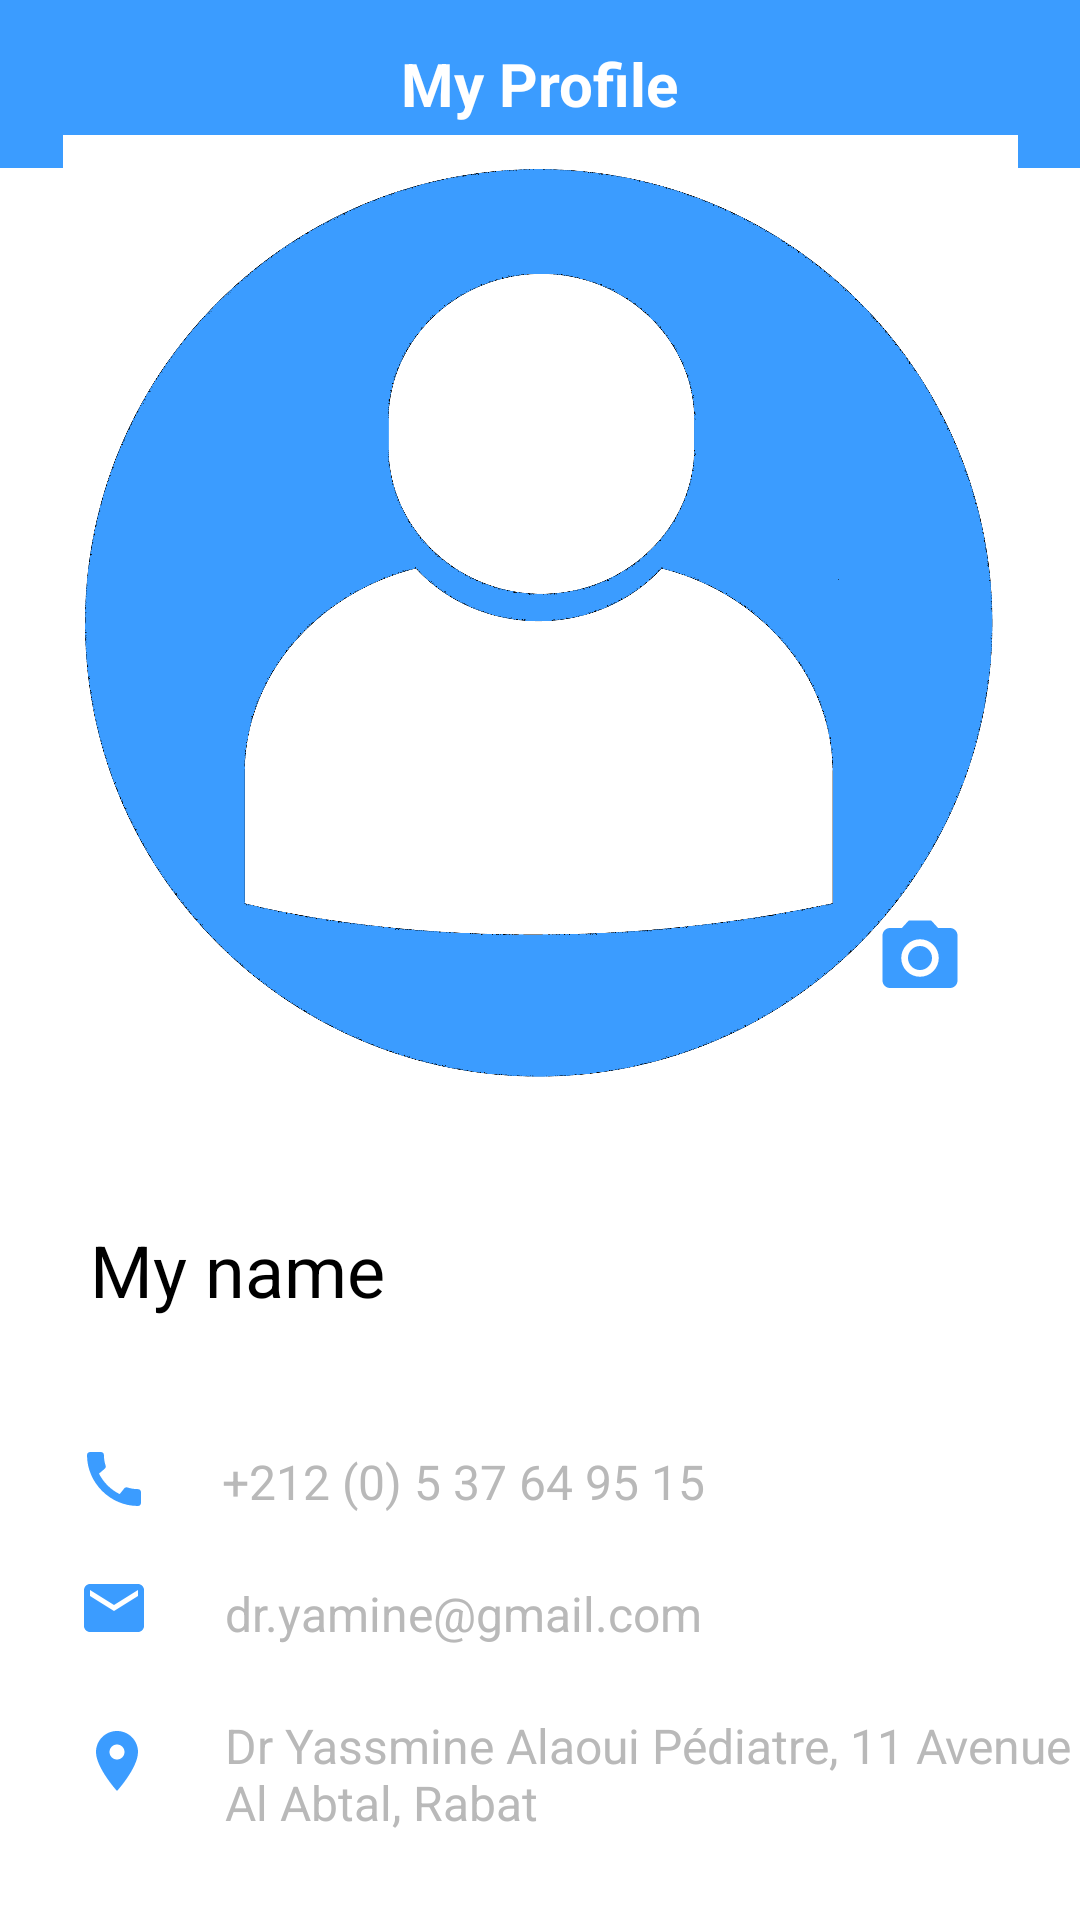

Named icons in this screenshot (1080px x 1920px) and their centers, point (x, y):
call: point (114, 1479)
camera: point (920, 954)
email: point (114, 1608)
location on: point (117, 1761)
